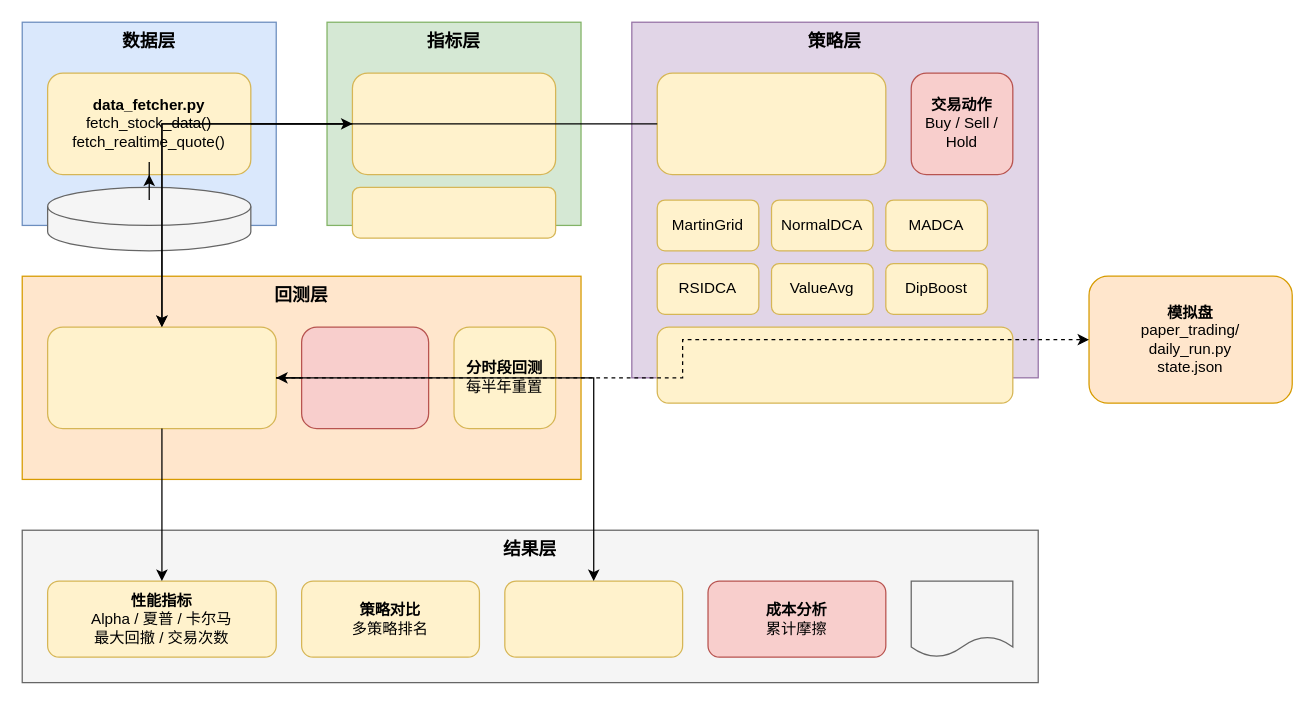
This 1314x705 diagram has some shape labels left out. The shapes that lost their labels are listed below. From the top down, each one's centre as x and y in pixels, then its label:
At point 453,123: "backtest_engine.py compute_indicators() MA/RSI/ATR/布林".
At point 771,123: "Strategy (ABC) init_state() decide(row, state, ctx)".
At point 148,218: "腾讯K线API".
At point 453,212: "evaluate_condition()".
At point 161,377: "backtest_framework.py backtest(strategy, df) run_all(segments)".
At point 364,377: "成本模型 佣金万三 印花税千一 滑点0.1%".
At point 834,364: "注册中心 register() clear_registry()".
At point 593,618: "交易记录 买卖明细".
At point 961,618: "DataFrame".
